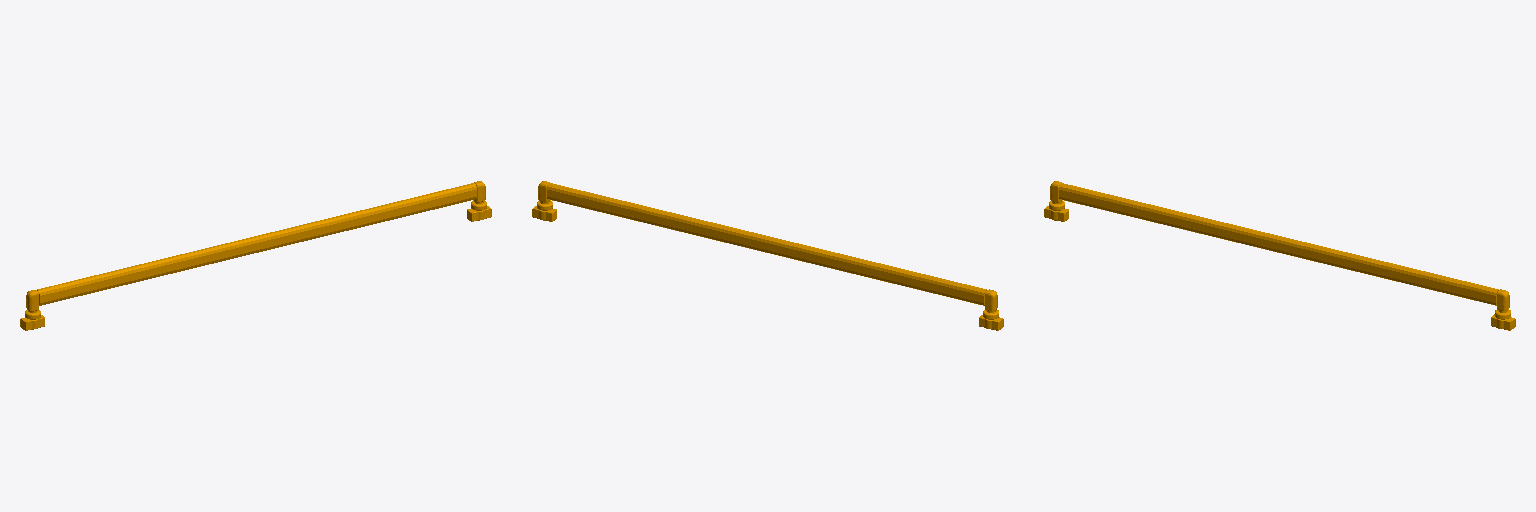
URDF robot description (handrail_41_5):
<?xml version="1.0"?>

<!-- Copyright (c) 2017, United States Government, as represented by the     -->
<!-- Administrator of the National Aeronautics and Space Administration.     -->
<!--                                                                         -->
<!-- All rights reserved.                                                    -->
<!--                                                                         -->
<!-- The Astrobee platform is licensed under the Apache License, Version 2.0 -->
<!-- (the "License"); you may not use this file except in compliance with    -->
<!-- the License. You may obtain a copy of the License at                    -->
<!--                                                                         -->
<!--     http://www.apache.org/licenses/LICENSE-2.0                          -->
<!--                                                                         -->
<!-- Unless required by applicable law or agreed to in writing, software     -->
<!-- distributed under the License is distributed on an "AS IS" BASIS,       -->
<!-- WITHOUT WARRANTIES OR CONDITIONS OF ANY KIND, either express or         -->
<!-- implied. See the License for the specific language governing            -->
<!-- permissions and limitations under the License.                          -->

<robot name="handrail_41_5" xmlns:xacro="http://www.ros.org/wiki/xacro">
  <link name="body">
    <inertial>
      <mass value="20"/>
      <origin xyz="0 0 0"/>
      <inertia ixx="1" ixy="0" ixz="0" iyy="1" iyz="0" izz="1"/>
    </inertial>
    <visual name="body_visual">
      <origin xyz="0 0 0" rpy="0 0 0" />
      <geometry>
        <mesh filename="package://astrobee_handrail_41_5/meshes/handrail_41_5.dae"/>
      </geometry>
    </visual>
    <collision name="body_collision">
      <origin xyz="0 0 0" rpy="0 0 0" />
      <geometry>
        <mesh filename="package://astrobee_handrail_41_5/meshes/handrail_41_5.dae"/>
      </geometry>
    </collision>
  </link>
  <gazebo>
    <static>true</static>
  </gazebo>
</robot>

--- What the picture shows (computed from the rendered views, not written in the file) ---
The picture shows the robot from 3 angles, left to right: view 1: azimuth 30°, elevation 25°; view 2: azimuth 150°, elevation 25°; view 3: azimuth 330°, elevation 25°; orthographic projection.
Robot: handrail_41_5 — 1 links, 0 joints (none); root link body; default pose: all joints at 0.
Links seen in each view (by area): view 1: body; view 2: body; view 3: body.
Link boxes in pixels (x1,y1,x2,y2): body: (20,181,491,330); body: (532,181,1003,330); body: (1044,181,1515,330).
Bounding box of the posed robot: 1.06 × 0.0332 × 0.0784 m (x, y, z).
Meshes: 1 distinct files referenced, 1 mesh visuals loaded (1 Collada DAE).
